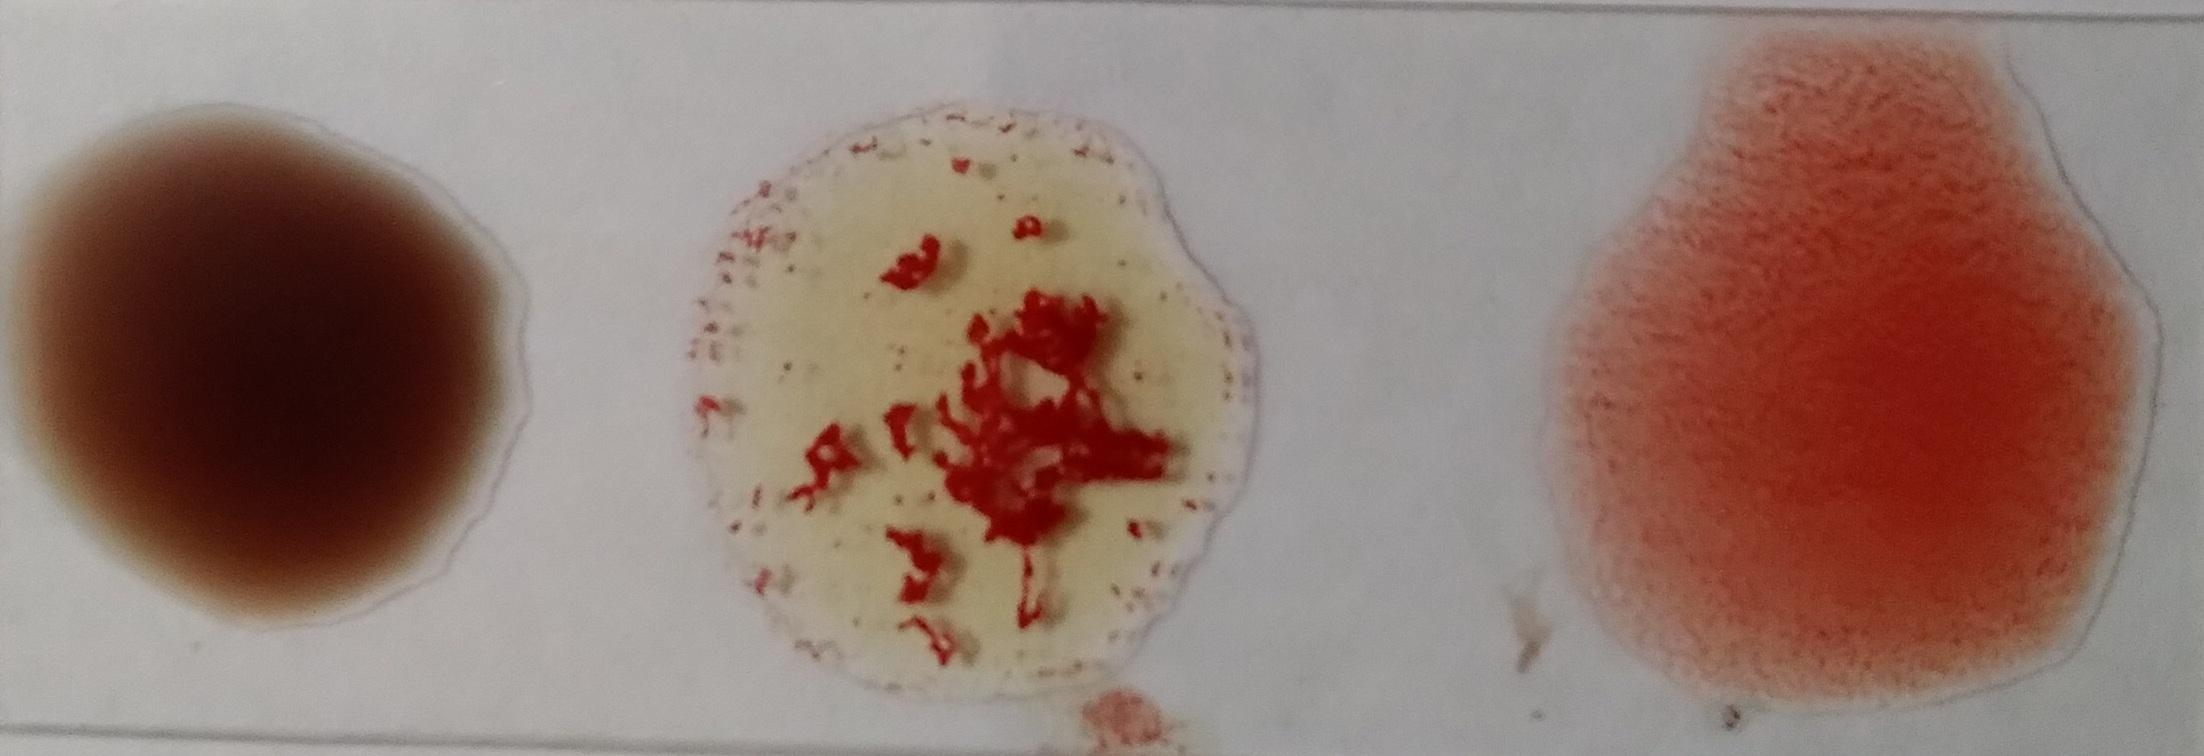B: (692, 110, 1244, 696)
D: (1600, 48, 2132, 710)
